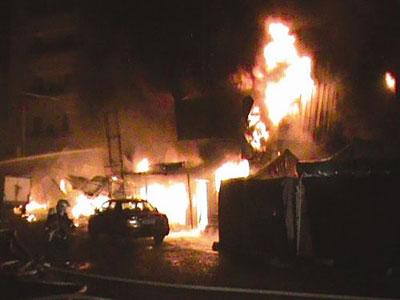fire: (100, 151, 252, 233), (261, 28, 315, 126)
